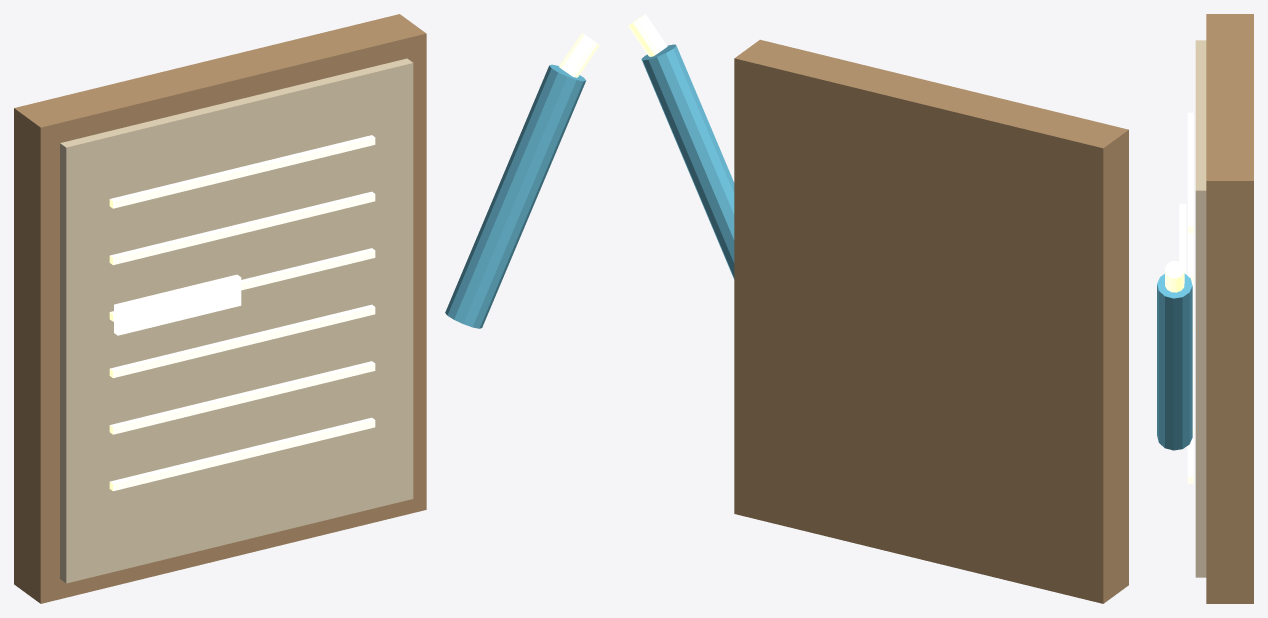
File: plan_10.glb
3 renders of one model, left to right at view 1: azimuth 30°, elevation 25°; view 2: azimuth 150°, elevation 25°; view 3: azimuth 270°, elevation 25°, orthographic. The views are drawn at different scales.
Visible parts, largest first — view 1: paper, notebook_cover, pen_body, highlight, note_line4, note_line0, note_line1, note_line3, note_line5, note_line2, pen_tip; view 2: notebook_cover, pen_body, pen_tip; view 3: notebook_cover, paper, pen_body, note_line0, pen_tip, highlight, note_line1, note_line5.
Boxes of the visible parts, left/top/right/bottom form: paper: left=60, top=58, right=413, bottom=583; notebook_cover: left=14, top=14, right=426, bottom=603; pen_body: left=445, top=64, right=586, bottom=328; highlight: left=114, top=274, right=241, bottom=335; note_line4: left=109, top=361, right=375, bottom=434; note_line0: left=109, top=135, right=375, bottom=208; note_line1: left=109, top=191, right=375, bottom=265; note_line3: left=109, top=304, right=375, bottom=378; note_line5: left=109, top=417, right=375, bottom=491; note_line2: left=109, top=248, right=375, bottom=321; pen_tip: left=559, top=33, right=599, bottom=77; notebook_cover: left=734, top=39, right=1128, bottom=603; pen_body: left=641, top=44, right=734, bottom=279; pen_tip: left=628, top=14, right=667, bottom=56; notebook_cover: left=1206, top=14, right=1253, bottom=603; paper: left=1195, top=40, right=1206, bottom=577; pen_body: left=1157, top=273, right=1192, bottom=450; note_line0: left=1187, top=112, right=1193, bottom=232; pen_tip: left=1165, top=261, right=1184, bottom=292; highlight: left=1179, top=203, right=1186, bottom=274; note_line1: left=1187, top=233, right=1193, bottom=282; note_line5: left=1187, top=433, right=1193, bottom=483.
Bounding box in the file's own units: 1.82 × 1.54 × 0.3187.
